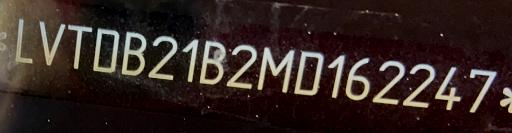letter: (255, 46, 295, 91), (464, 64, 500, 113), (291, 46, 323, 97), (403, 61, 439, 106), (372, 55, 402, 106), (433, 62, 463, 113), (146, 35, 178, 80), (227, 40, 255, 91), (344, 56, 376, 99), (34, 19, 64, 64), (66, 20, 92, 71), (198, 40, 226, 87), (121, 26, 145, 79), (92, 26, 120, 71), (9, 17, 33, 65), (325, 50, 345, 99), (180, 35, 198, 86)
